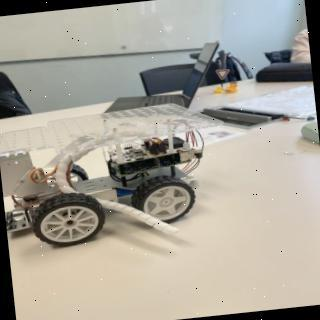vehicle: (4, 110, 219, 258)
